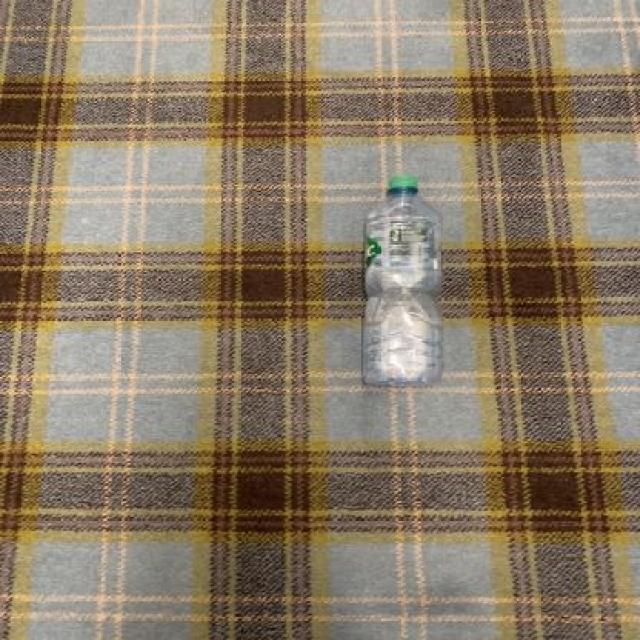trash: (356, 176, 447, 390)
